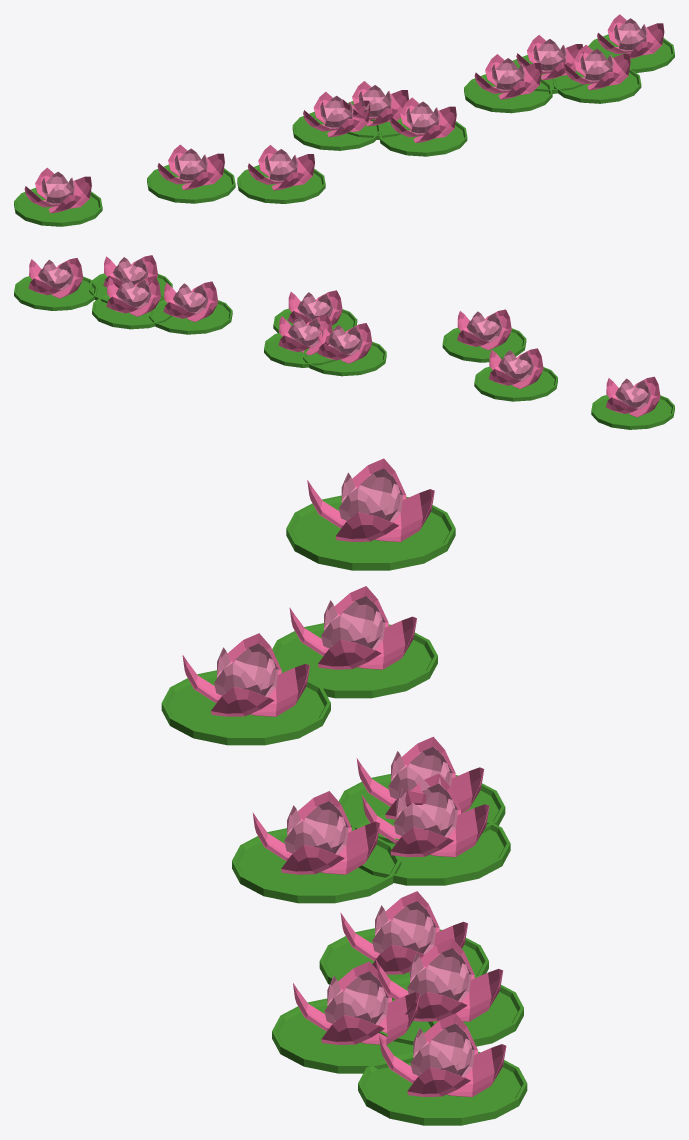
The model's file is positive.glb.
3 views of the same model, one above another, from view 1: azimuth 30°, elevation 25°; view 2: azimuth 150°, elevation 25°; view 3: azimuth 270°, elevation 25° (orthographic). The views are drawn at different scales.
Parts seen in each view (by area): view 1: ziran.821, ziran.822, ziran.823, ziran.827, ziran.826, ziran.829, ziran.824, ziran.830, ziran.825, ziran.828; view 2: ziran.822, ziran.821, ziran.830, ziran.827, ziran.823, ziran.824, ziran.828, ziran.825, ziran.826, ziran.829; view 3: ziran.823, ziran.821, ziran.830, ziran.826, ziran.822, ziran.829, ziran.825, ziran.828, ziran.827, ziran.824.
Boxes of the visible parts, x1,y1,x2,y2 form: ziran.821: [14, 167, 102, 226]; ziran.822: [147, 144, 235, 203]; ziran.823: [237, 145, 325, 203]; ziran.827: [464, 54, 552, 113]; ziran.826: [379, 97, 467, 156]; ziran.829: [552, 45, 641, 103]; ziran.824: [292, 92, 380, 150]; ziran.830: [588, 14, 674, 72]; ziran.825: [342, 81, 411, 139]; ziran.828: [513, 35, 585, 93]; ziran.822: [474, 348, 557, 401]; ziran.821: [591, 376, 674, 429]; ziran.830: [14, 258, 97, 310]; ziran.827: [149, 281, 232, 334]; ziran.823: [442, 309, 526, 362]; ziran.824: [303, 323, 386, 376]; ziran.828: [92, 276, 172, 329]; ziran.825: [264, 314, 336, 367]; ziran.826: [273, 290, 357, 333]; ziran.829: [89, 255, 172, 302]; ziran.823: [161, 633, 330, 745]; ziran.821: [286, 458, 455, 570]; ziran.830: [358, 1013, 527, 1125]; ziran.826: [232, 791, 401, 903]; ziran.822: [272, 586, 437, 698]; ziran.829: [272, 961, 436, 1073]; ziran.825: [351, 773, 510, 885]; ziran.828: [375, 938, 523, 1046]; ziran.827: [319, 891, 488, 999]; ziran.824: [338, 736, 505, 843].
Size of the model in its own units: 4.91 by 0.2519 by 1.23.
Materials: 1 (1 with a texture image).
